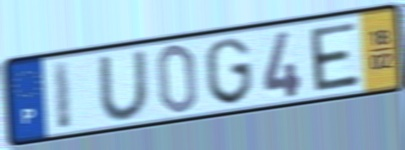0: (155, 42, 199, 117)
4: (261, 26, 305, 100)
E: (307, 19, 363, 94)
G: (203, 35, 256, 107)
I: (51, 57, 75, 134)
U: (95, 47, 152, 122)
